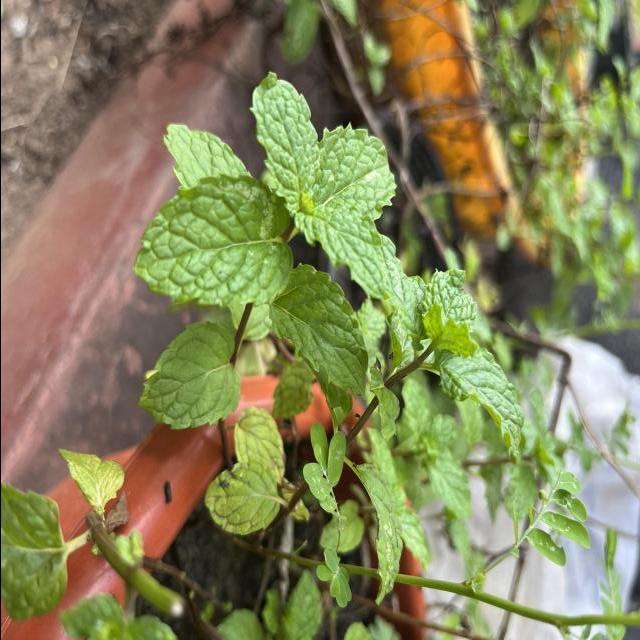Mentha spicata: (132, 172, 294, 312), (267, 260, 369, 400), (135, 320, 241, 432), (247, 70, 319, 213), (316, 120, 396, 223)
